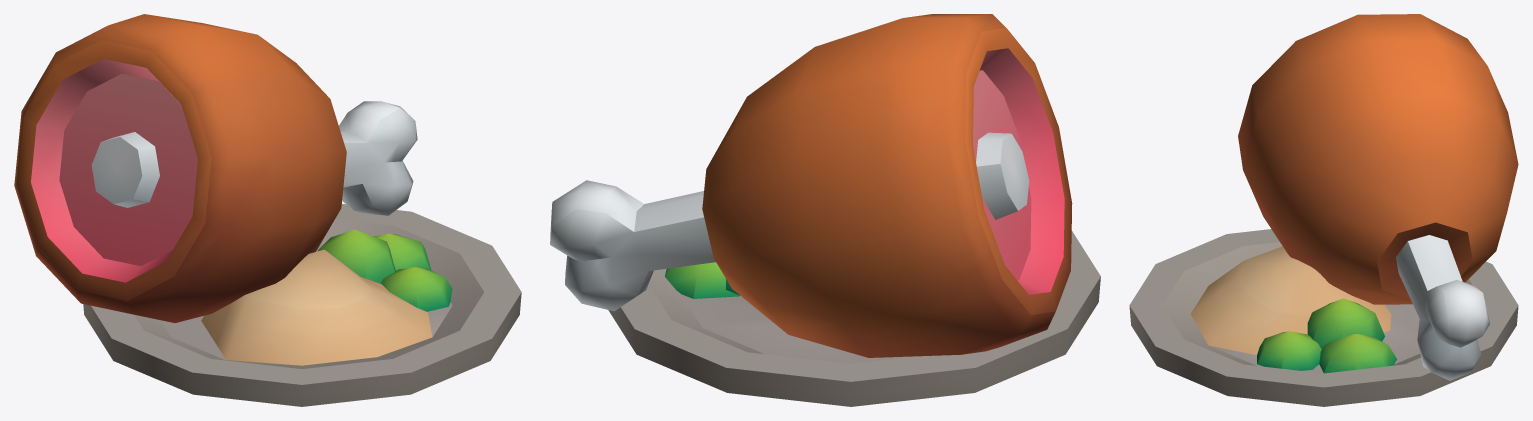
The model's file is d_kaykit_assiette.glb.
3 views of the same model, side by side, from view 1: azimuth 30°, elevation 25°; view 2: azimuth 150°, elevation 25°; view 3: azimuth 270°, elevation 25° (orthographic). The views are drawn at different scales.
Parts seen in each view (by area): view 1: d_kaykit_assiette; view 2: d_kaykit_assiette; view 3: d_kaykit_assiette.
Part boxes in pixels (left/top/right/bottom): d_kaykit_assiette: left=14, top=14, right=521, bottom=406; d_kaykit_assiette: left=550, top=14, right=1100, bottom=406; d_kaykit_assiette: left=1129, top=14, right=1518, bottom=406.
Size of the model in its own units: 1.02 by 0.7876 by 0.9705.
1 material, 1 textured.
